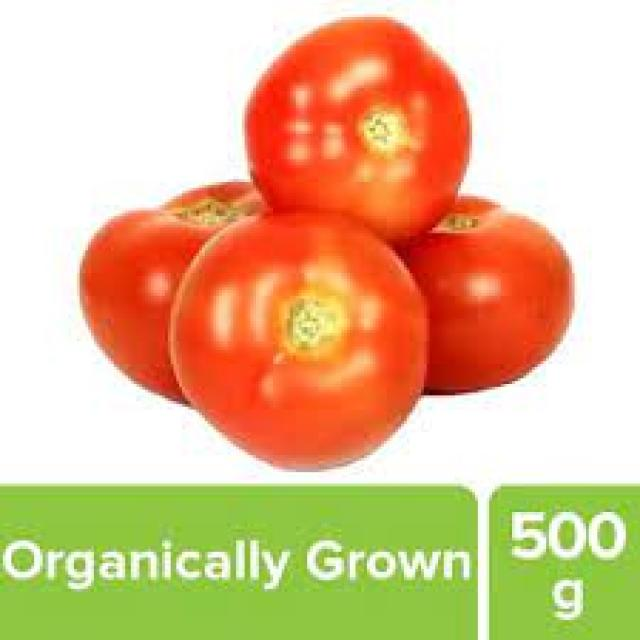Fresh_tomato: (197, 203, 427, 461), (241, 2, 467, 238), (94, 187, 274, 403), (397, 202, 583, 395)
